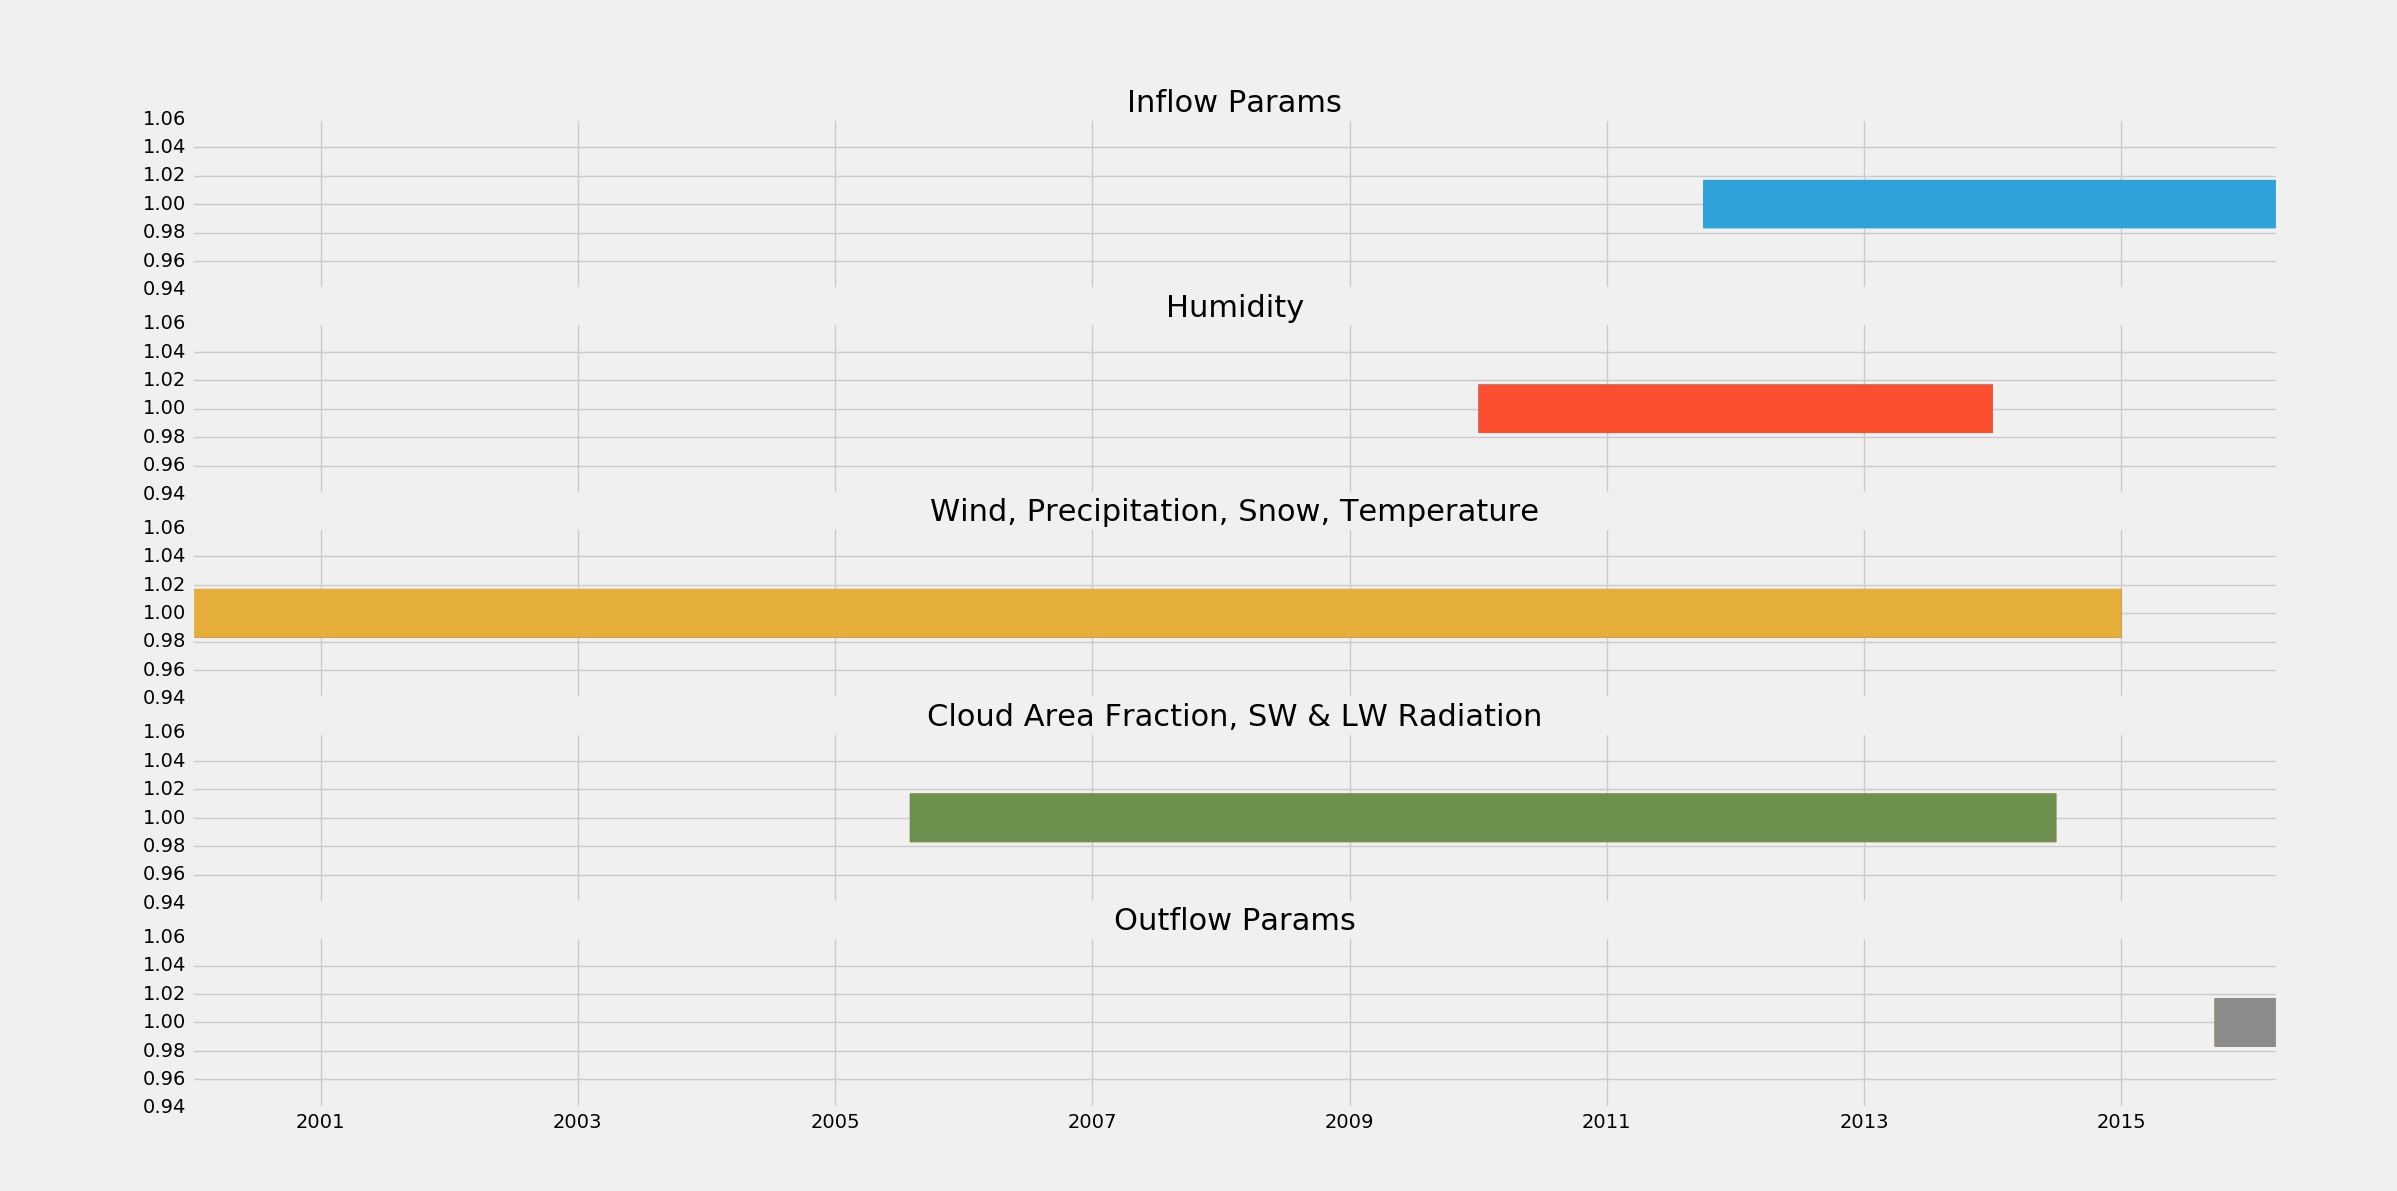

The page's visual inventory and layout, read from the dashboard file:
{"tool":"tableau","page":{"name":"2013 Lines","canvas":[650,600],"ordinal":1},"visuals":[{"type":"worksheet","title":"2013 LinesRaw","mark":"Automatic","rows":["ResultValue"],"cols":["Datetime"],"box":[0,0,490,600]},{"type":"filter","title":"2013 LinesRaw","param":"[msaccess.41562.933590833331].[none:CharacteristicName:nk]","box":[490,0,160,53]},{"type":"text","box":[490,53,160,36]},{"type":"legend","title":"2013 LinesRaw","param":"[msaccess.41562.933590833331].[none:Calculation_4831016214107055:nk]","box":[490,89,160,308]}]}

Visuals, with their boxes on the page's 650x600 design canvas (x1, y1, x2, y2). These are canvas units, not pixel positions in the 2397x1191 screenshot, which may show the page scaled, cropped or inside an application window:
"2013 LinesRaw" worksheet: x1=0, y1=0, x2=490, y2=600
"2013 LinesRaw" filter: x1=490, y1=0, x2=650, y2=53
text: x1=490, y1=53, x2=650, y2=89
"2013 LinesRaw" legend: x1=490, y1=89, x2=650, y2=397
